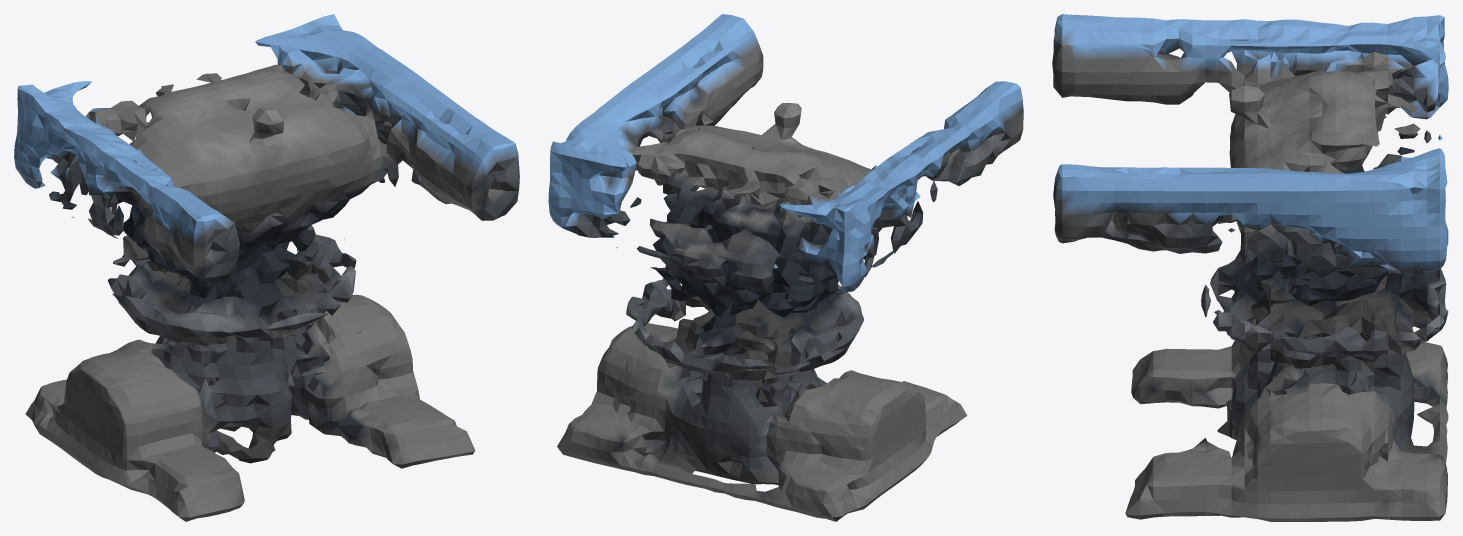
Rendered from Turret.fbx.
3 views of the same model, side by side, from view 1: azimuth 30°, elevation 25°; view 2: azimuth 150°, elevation 25°; view 3: azimuth 270°, elevation 25° (orthographic). The views are drawn at different scales.
Visible parts, largest first — view 1: Railgun2.1; view 2: Railgun2.1; view 3: Railgun2.1.
Boxes of the visible parts, <box> form: Railgun2.1: <box>14,14,519,521</box>; Railgun2.1: <box>548,14,1023,521</box>; Railgun2.1: <box>1052,14,1448,521</box>.
Bounding box in the file's own units: 99.97 × 100 × 100.
